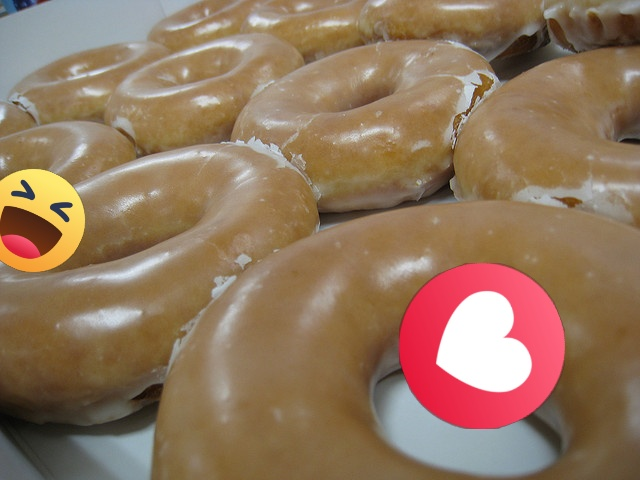haha: (0, 169, 85, 272)
love: (399, 263, 565, 429)
